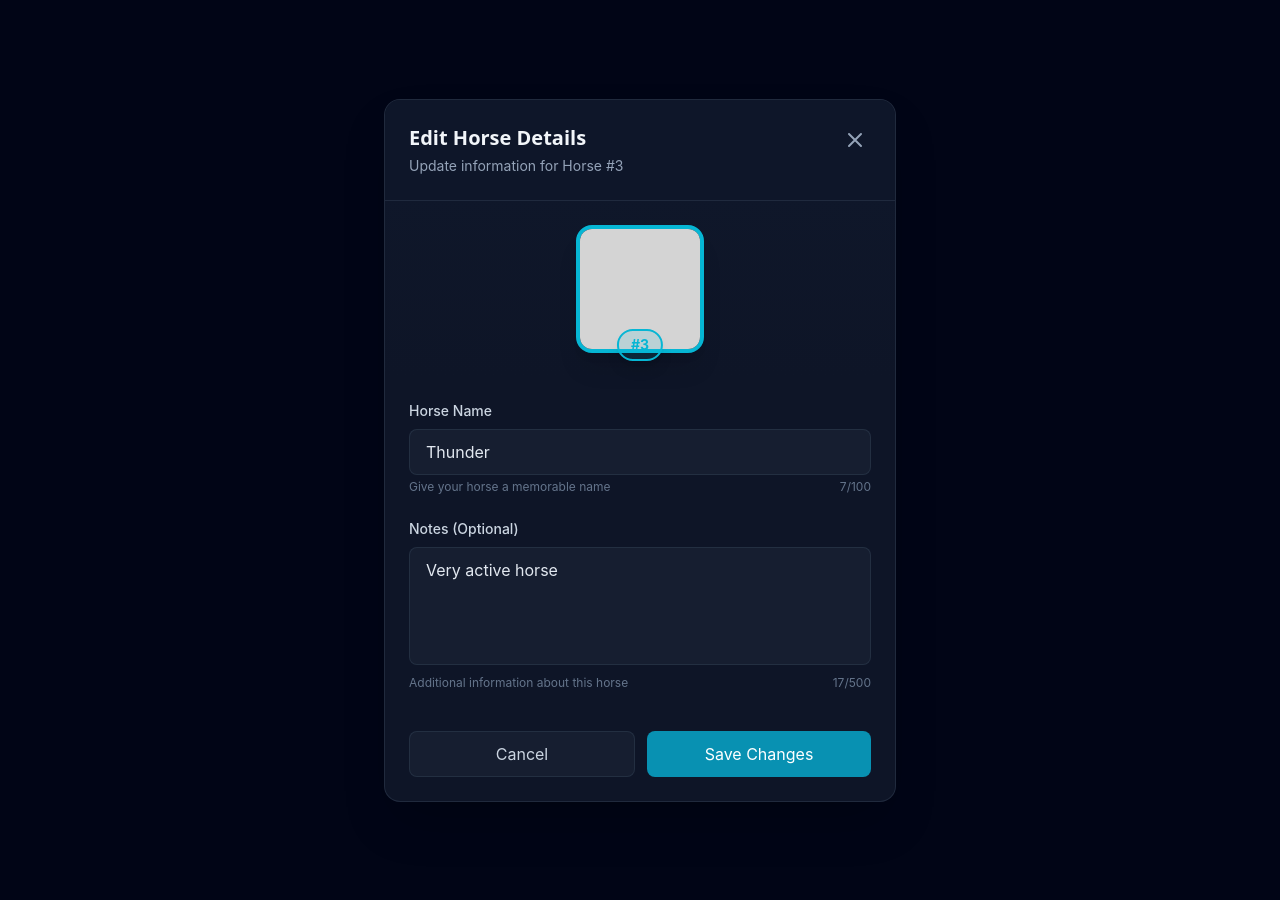
Test: HorseEditModal › Form Submission › should show success toast on successful save
Step 1. Replace the text in the field labelled "Horse Name" with "Dash" → (640, 452), box [409, 428, 871, 474]
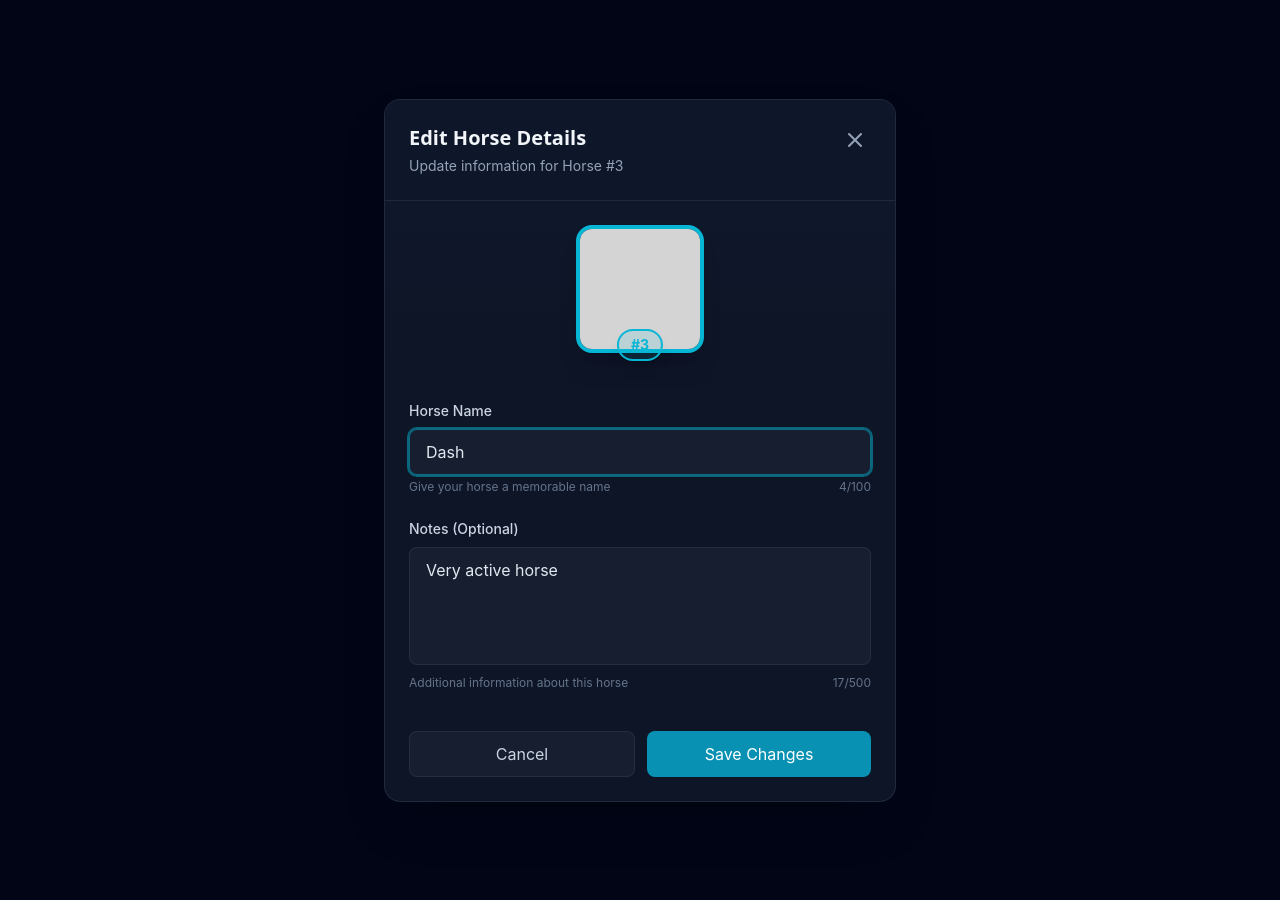
Step 2. Click the button "Save Changes" → (759, 754), box [647, 730, 871, 776]
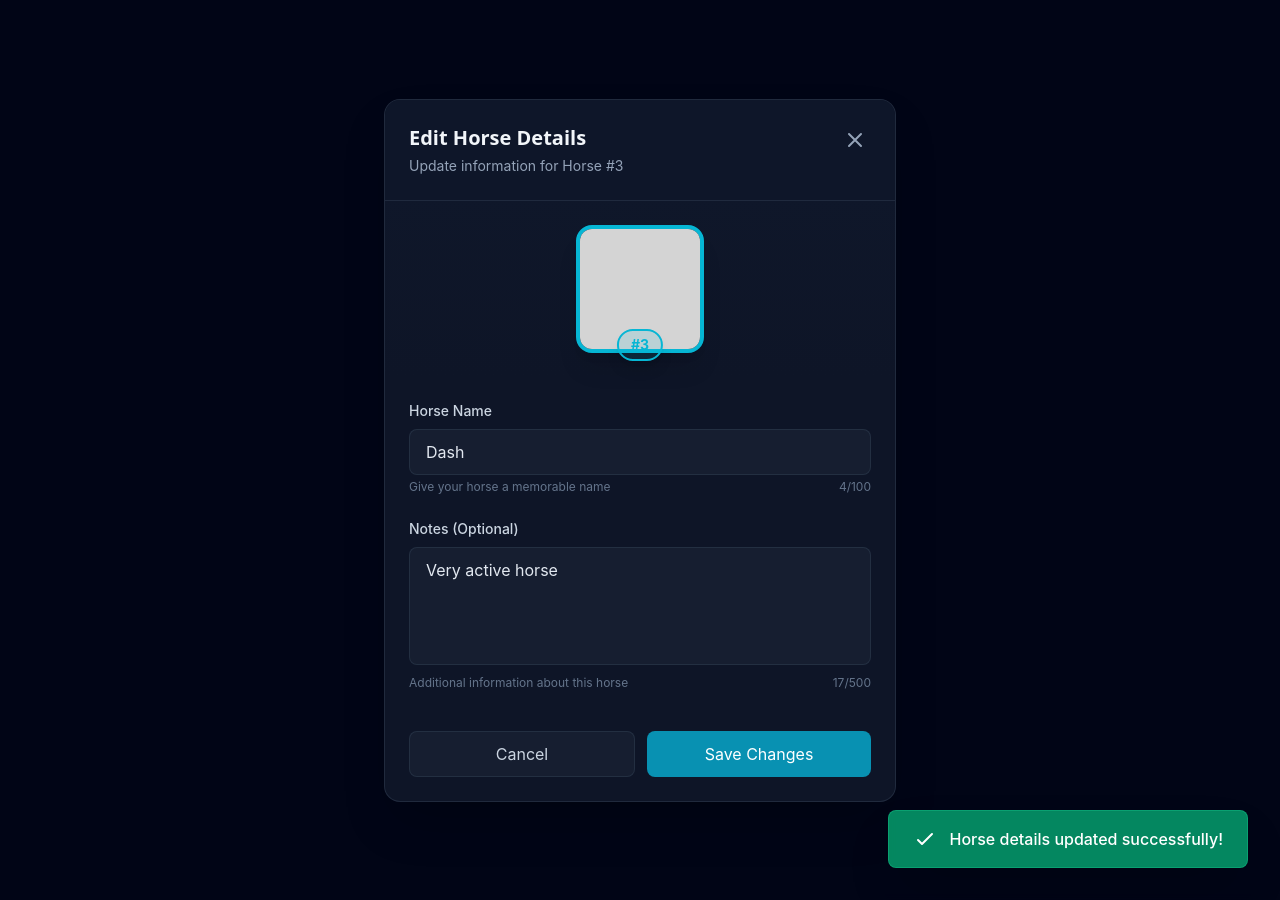
Check: the text "Horse details updated successfully!" is shown, box [950, 827, 1223, 851]
